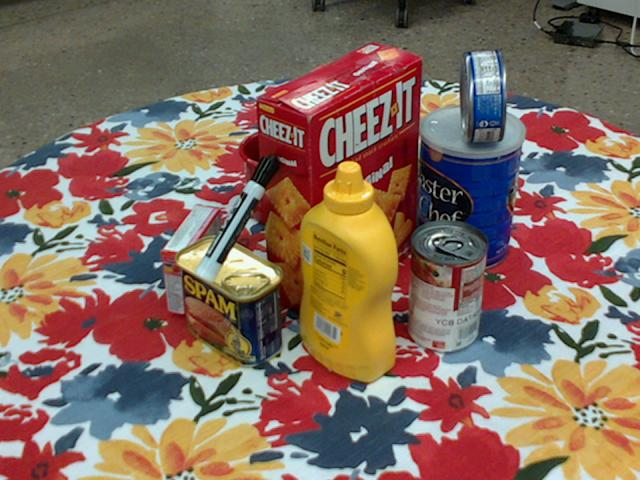cracker_box: (255, 42, 423, 320)
gelatin_box: (162, 203, 222, 316)
large_marker: (194, 152, 280, 281)
master_chef_can: (417, 105, 523, 273)
mug: (239, 128, 341, 228)
mustard_bottle: (300, 161, 399, 383)
potted_meat_can: (176, 235, 284, 367)
sugar_box: (290, 90, 452, 201)
tomato_soup_can: (407, 220, 488, 353)
tuna_fish_can: (459, 49, 507, 142)
